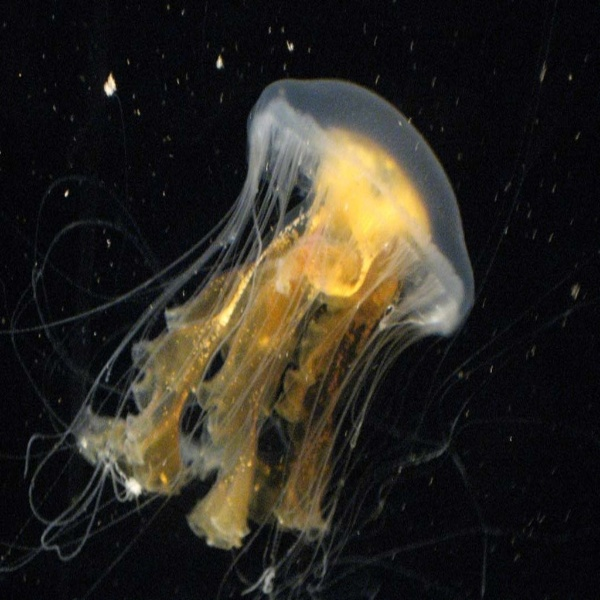Jellyfish: (0, 74, 475, 597)
